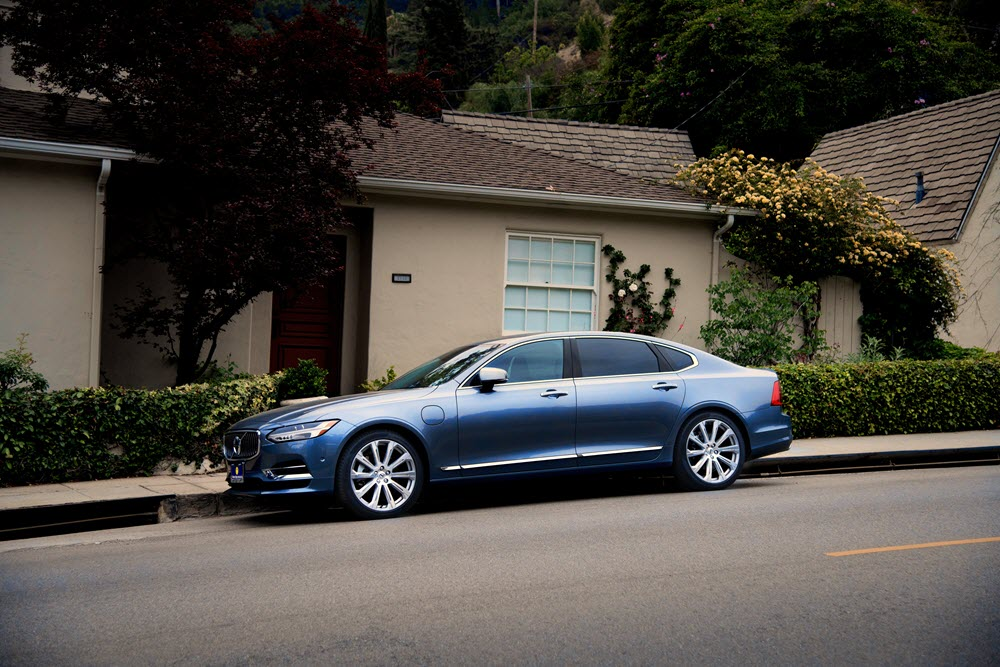car: (215, 332, 793, 518)
